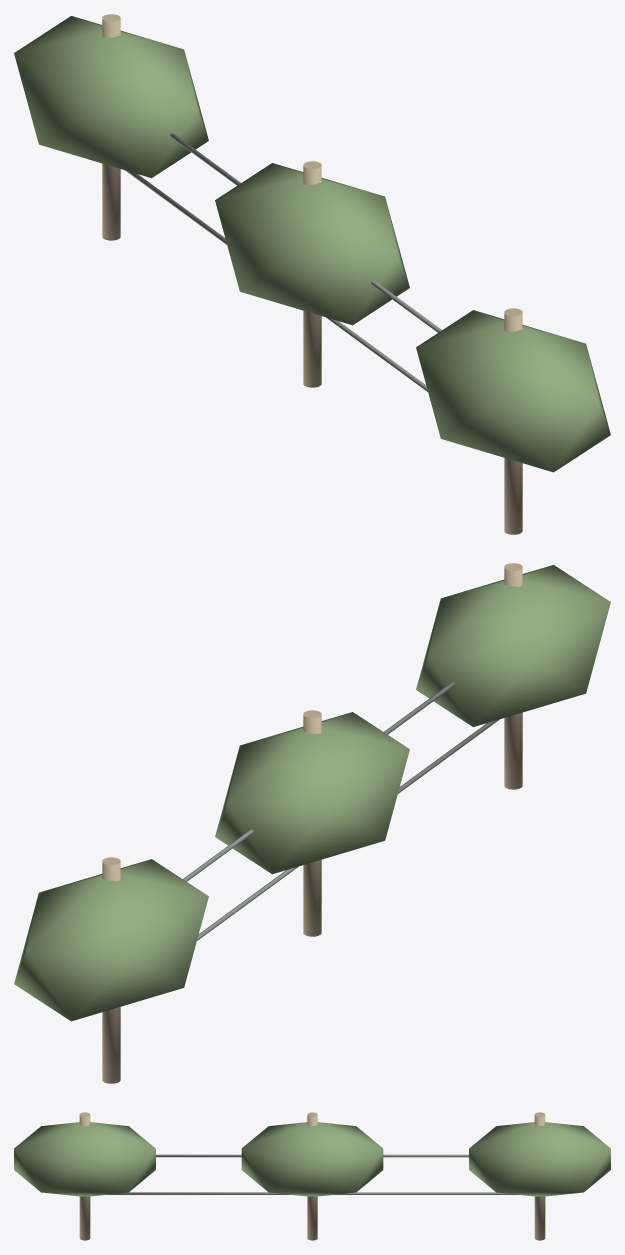
The model's file is rhine-vine_lod0.glb.
3 renders of one model, top to bottom at view 1: azimuth 30°, elevation 25°; view 2: azimuth 150°, elevation 25°; view 3: azimuth 270°, elevation 25°, orthographic. The views are drawn at different scales.
Parts seen in each view (by area): view 1: RF_VineLeaves, RF_VineLeaves.001, RF_VineLeaves.002, RF_VinePost, RF_VinePost.001, RF_VinePost.002, RF_VineWire.001, RF_VineWire; view 2: RF_VineLeaves.002, RF_VineLeaves.001, RF_VineLeaves, RF_VinePost.001, RF_VinePost, RF_VinePost.002, RF_VineWire.001, RF_VineWire; view 3: RF_VineLeaves.001, RF_VineLeaves, RF_VineLeaves.002, RF_VineWire.001, RF_VineWire, RF_VinePost.001, RF_VinePost, RF_VinePost.002.
Boxes of the visible parts, x1=… form: RF_VineLeaves: x1=416, y1=310, x2=610, y2=472; RF_VineLeaves.001: x1=215, y1=163, x2=409, y2=325; RF_VineLeaves.002: x1=14, y1=16, x2=208, y2=178; RF_VinePost: x1=102, y1=14, x2=120, y2=240; RF_VinePost.001: x1=504, y1=308, x2=522, y2=534; RF_VinePost.002: x1=303, y1=161, x2=321, y2=387; RF_VineWire.001: x1=125, y1=170, x2=427, y2=391; RF_VineWire: x1=170, y1=133, x2=441, y2=332; RF_VineLeaves.002: x1=14, y1=859, x2=208, y2=1021; RF_VineLeaves.001: x1=215, y1=712, x2=409, y2=874; RF_VineLeaves: x1=416, y1=565, x2=610, y2=727; RF_VinePost.001: x1=504, y1=563, x2=522, y2=789; RF_VinePost: x1=102, y1=857, x2=120, y2=1083; RF_VinePost.002: x1=303, y1=710, x2=321, y2=936; RF_VineWire.001: x1=197, y1=719, x2=499, y2=940; RF_VineWire: x1=183, y1=682, x2=454, y2=881; RF_VineLeaves.001: x1=241, y1=1122, x2=383, y2=1196; RF_VineLeaves: x1=14, y1=1122, x2=155, y2=1196; RF_VineLeaves.002: x1=469, y1=1122, x2=610, y2=1196; RF_VineWire.001: x1=106, y1=1192, x2=518, y2=1194; RF_VineWire: x1=156, y1=1154, x2=468, y2=1157; RF_VinePost.001: x1=79, y1=1112, x2=90, y2=1240; RF_VinePost: x1=534, y1=1112, x2=545, y2=1240; RF_VinePost.002: x1=307, y1=1112, x2=317, y2=1240.
Bounding box in the file's own units: 1.25 × 1.8 × 7.87.
